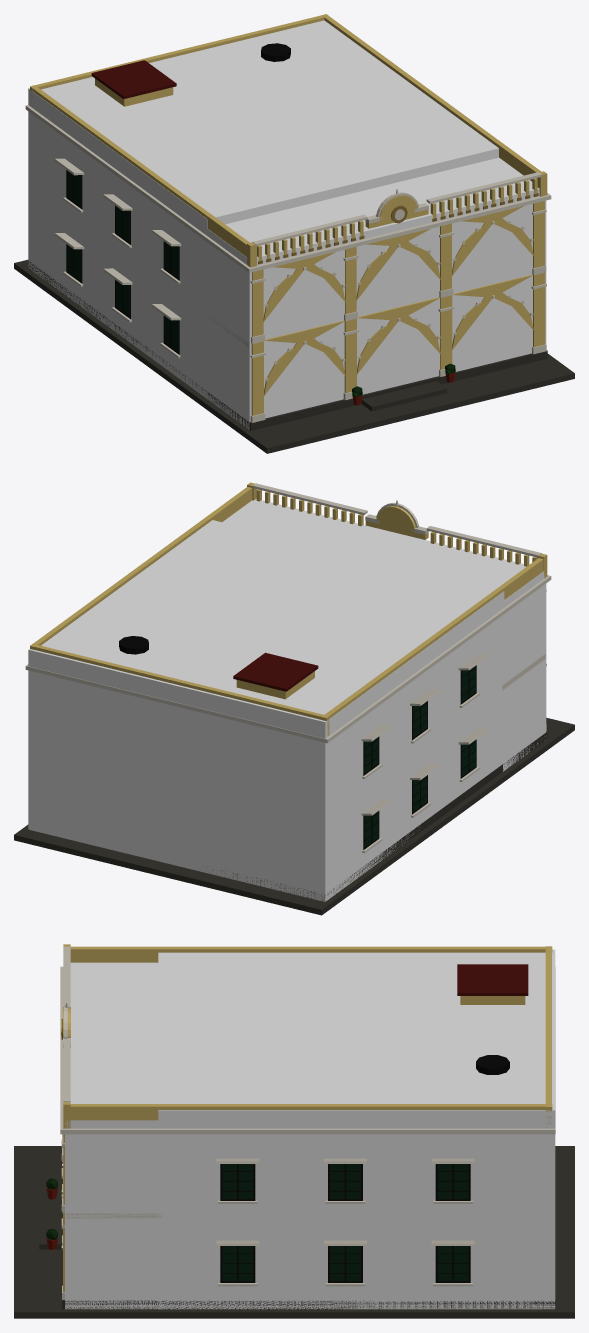
Rendered from CHN_007_colonial_res.glb.
3 views of the same model, one above another, from view 1: azimuth 30°, elevation 25°; view 2: azimuth 150°, elevation 25°; view 3: azimuth 270°, elevation 25° (orthographic). The views are drawn at different scales.
Parts seen in each view (by area): view 1: COL_Main, LOD0, COL_Verandah; view 2: COL_Main, LOD0, COL_Verandah; view 3: COL_Main, LOD0, COL_Verandah.
Part boxes in pixels (x1,y1,x2,y2): COL_Main: (28,20,498,398); LOD0: (14,14,574,453); COL_Verandah: (206,157,546,429); COL_Main: (28,520,504,901); LOD0: (14,482,574,915); COL_Verandah: (222,499,546,771); COL_Main: (158,949,555,1309); LOD0: (14,944,574,1318); COL_Verandah: (65,962,161,1309).
Size of what is drawn, in the model's own units: 14.35 by 9.05 by 19.8.
